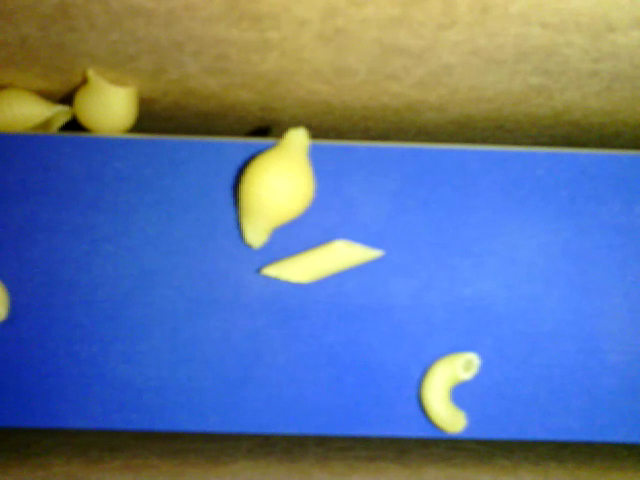elbow: (420, 348, 477, 432)
penne: (259, 234, 387, 287)
shell: (238, 121, 320, 251), (73, 68, 146, 141), (1, 90, 77, 137)
